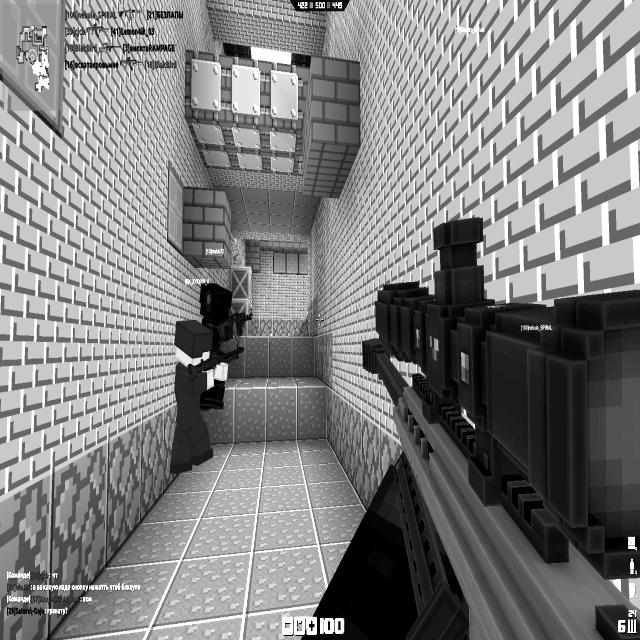Head: (174, 318, 213, 367), (200, 282, 232, 322)
Player: (169, 317, 245, 476), (196, 283, 253, 414)
